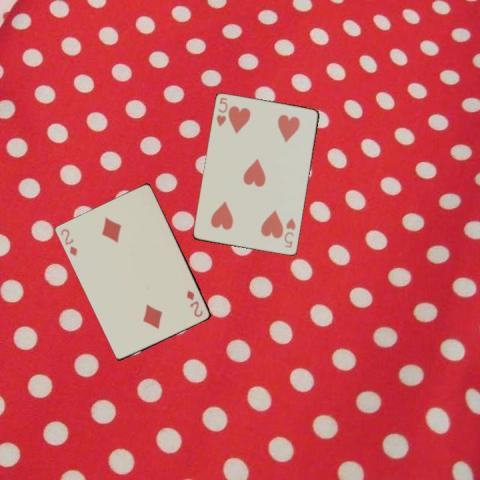2d: (58, 226, 79, 258), (184, 287, 204, 319)
5h: (282, 216, 298, 250), (214, 95, 230, 128)
